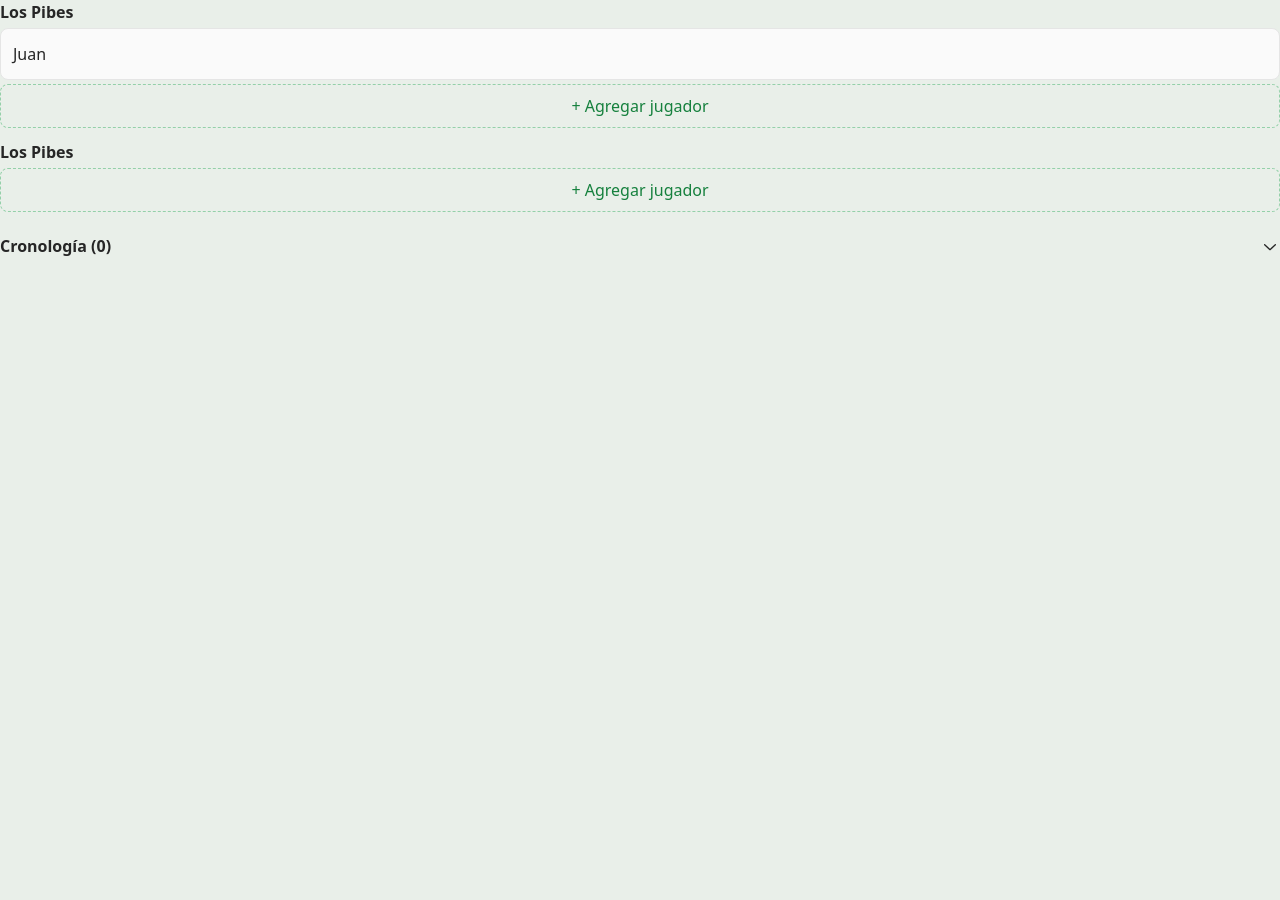
Test: CargaVivo flujo crítico 2 taps › tap T. AMARILLA registra tarjeta con toast propio
Click the button "Juan". click: [30, 54]
box: [0, 28, 1279, 80]
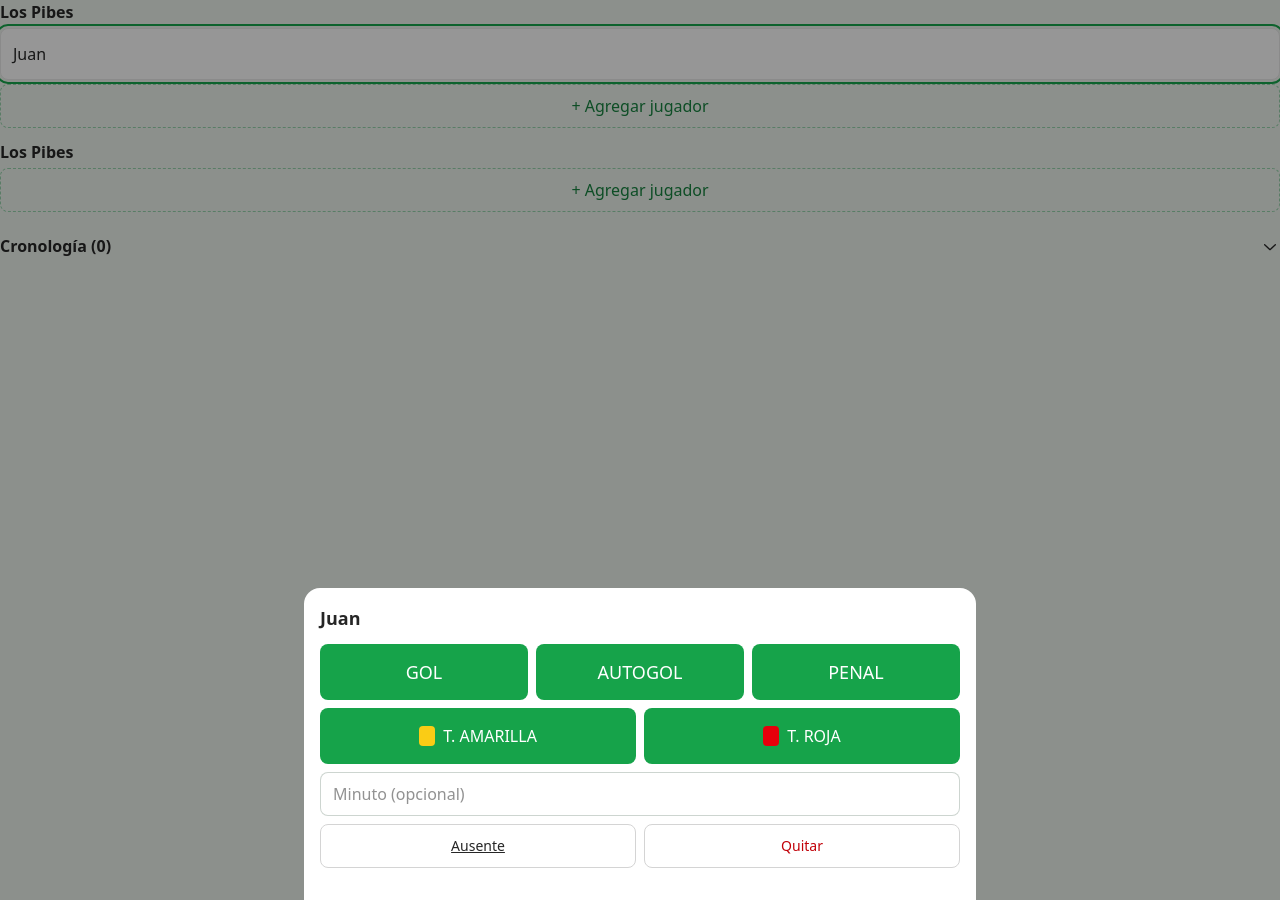
Expected: the text "GOL" is shown, [320, 644, 528, 700]
Click the button "T. AMARILLA". click: [478, 736]
box: [320, 708, 636, 764]
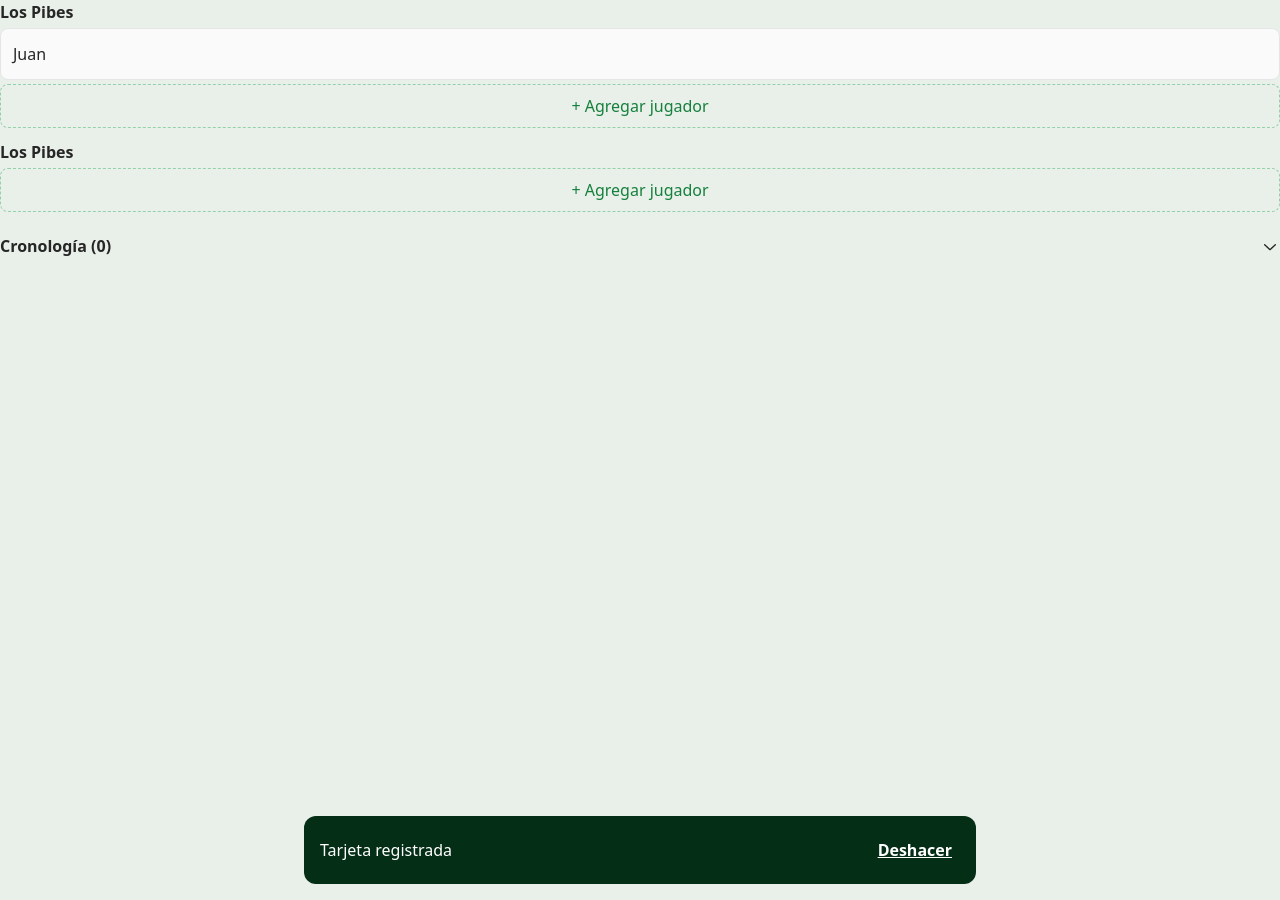
Expected: the text "Tarjeta registrada" is shown, [320, 838, 452, 862]
